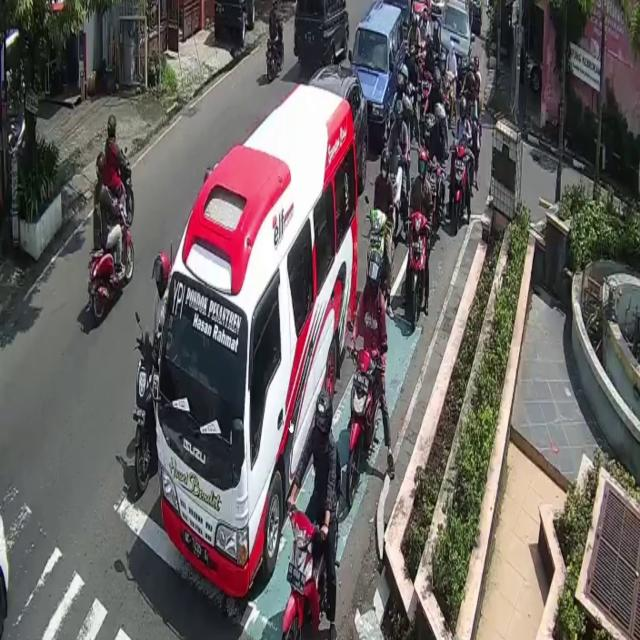bus: (285, 501, 332, 640), (87, 197, 134, 323), (349, 347, 380, 502), (134, 344, 159, 492), (363, 209, 390, 312), (409, 216, 427, 329), (452, 143, 468, 227), (265, 22, 285, 80)
car: (157, 82, 358, 594)
motorcycle: (351, 0, 407, 144), (312, 62, 370, 184), (292, 0, 348, 74), (438, 0, 474, 94)
